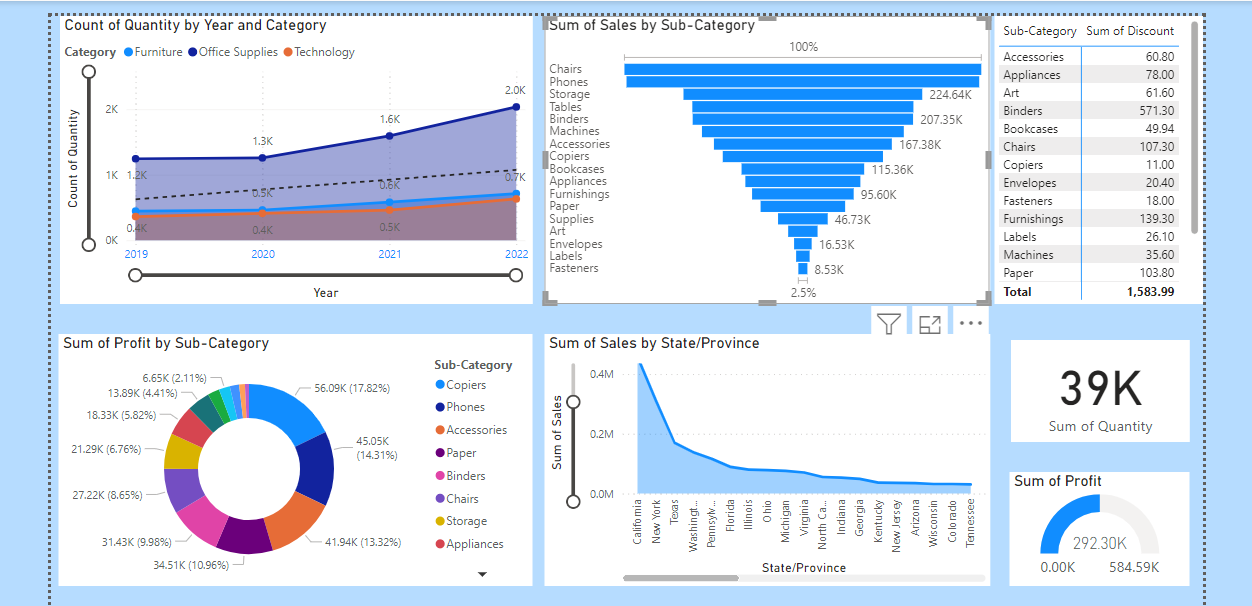

This screenshot's page, from the dashboard's own definition file:
{"tool":"powerbi","page":{"name":"Page 1","canvas":[1280,720],"ordinal":0},"visuals":[{"type":"areaChart","fields":{"Category":["Orders.Order Date.Variation.Date Hierarchy.Year"],"Y":["CountNonNull(Orders.Quantity)"],"Series":["Orders.Category"]},"box":[10,0,525,320],"z":0},{"type":"donutChart","fields":{"Category":["Orders.Sub-Category"],"Y":["Sum(Orders.Profit)"]},"box":[8.3,353.3,526.7,280],"z":1000},{"type":"gauge","fields":{"Y":["Sum(Orders$FilterDatabase.Profit)"]},"box":[1065,506.7,200,126.7],"z":2000},{"type":"card","fields":{"Values":["Sum(Orders.Quantity)"]},"box":[1066.7,360,198.3,113.3],"z":3000},{"type":"areaChart","fields":{"Y":["Sum(Orders.Sales)"],"Category":["Orders.State/Province"]},"box":[548.3,353.3,495,280],"z":4000},{"type":"funnel","fields":{"Category":["Orders.Sub-Category"],"Y":["Sum(Orders.Sales)"]},"box":[548.3,0,495,320],"z":5000},{"type":"pivotTable","fields":{"Values":["Sum(Orders.Discount)"],"Rows":["Orders.Sub-Category"]},"box":[1048.3,0,231.7,320],"z":6000}]}

Visuals, with their boxes on the page's 1280x720 design canvas (x1, y1, x2, y2). These are canvas units, not pixel positions in the 1252x606 screenshot, which may show the page scaled, cropped or inside an application window:
areaChart - Orders.Order Date.Variation.Date Hierarchy.Year x CountNonNull(Orders.Quantity): 10,0,535,320
donutChart - Orders.Sub-Category x Sum(Orders.Profit): 8,353,535,633
gauge - Sum(Orders$FilterDatabase.Profit): 1065,507,1265,633
card - Sum(Orders.Quantity): 1067,360,1265,473
areaChart - Sum(Orders.Sales) x Orders.State/Province: 548,353,1043,633
funnel - Orders.Sub-Category x Sum(Orders.Sales): 548,0,1043,320
pivotTable - Sum(Orders.Discount) x Orders.Sub-Category: 1048,0,1280,320
